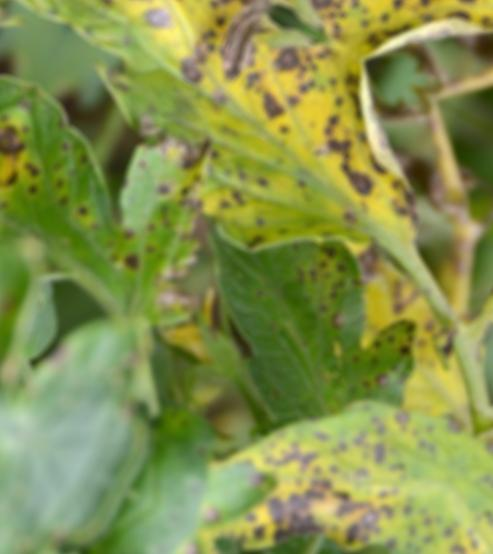Tomato Septoria leaf spot: (17, 0, 492, 322), (0, 74, 258, 376), (182, 339, 471, 554), (423, 141, 493, 354)
